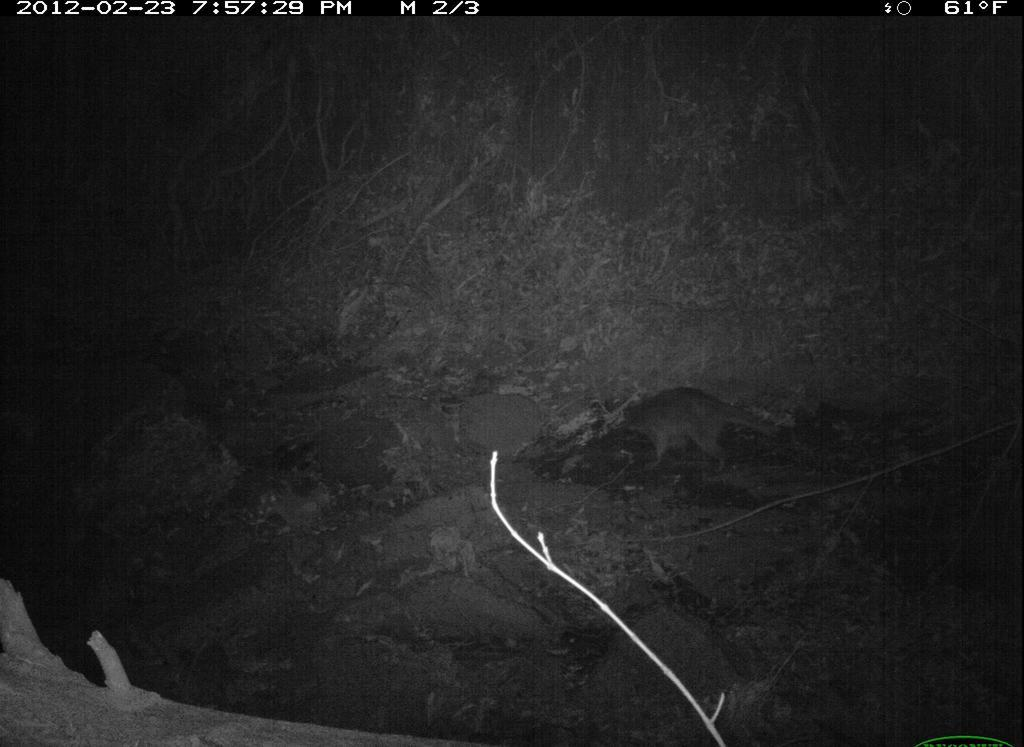raccoon: (615, 374, 790, 474)
